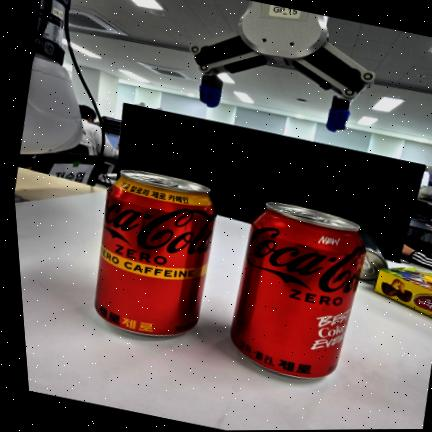can_coke_decaf: (93, 173, 214, 334)
can_coke_zero: (228, 202, 361, 380)
